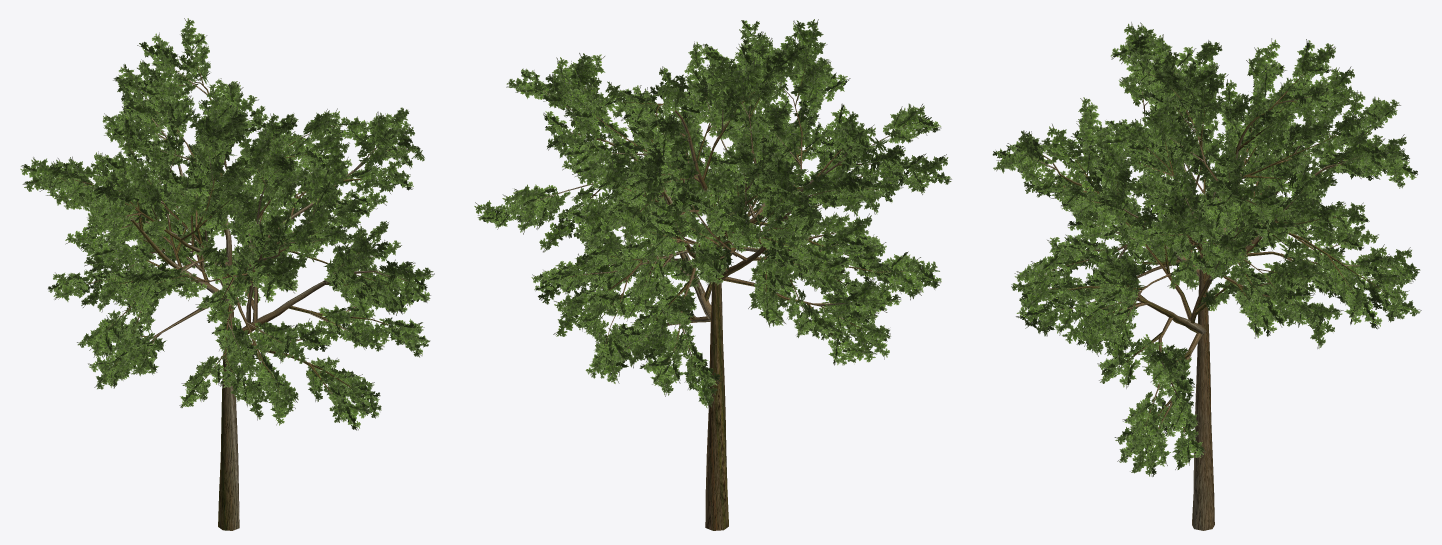
Rendered from oak.glb.
3 renders of one model, left to right at view 1: azimuth 30°, elevation 25°; view 2: azimuth 150°, elevation 25°; view 3: azimuth 270°, elevation 25°, orthographic. The views are drawn at different scales.
Visible parts, largest first — view 1: oak; view 2: oak; view 3: oak.
Part boxes in pixels (<box>): oak: <box>20,18,434,530</box>; oak: <box>474,19,951,530</box>; oak: <box>992,22,1421,530</box>.
Size of the model in its own units: 7.16 by 8.5 by 7.05.
2 materials, 2 textured.
